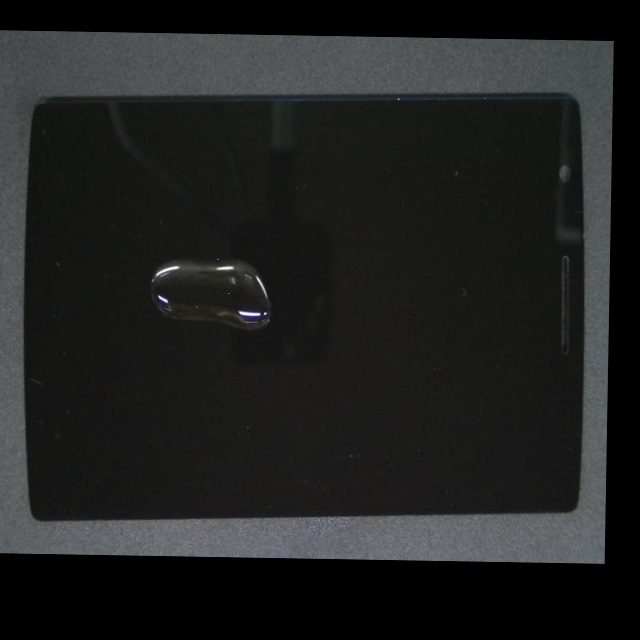oil: (137, 122, 284, 375)
